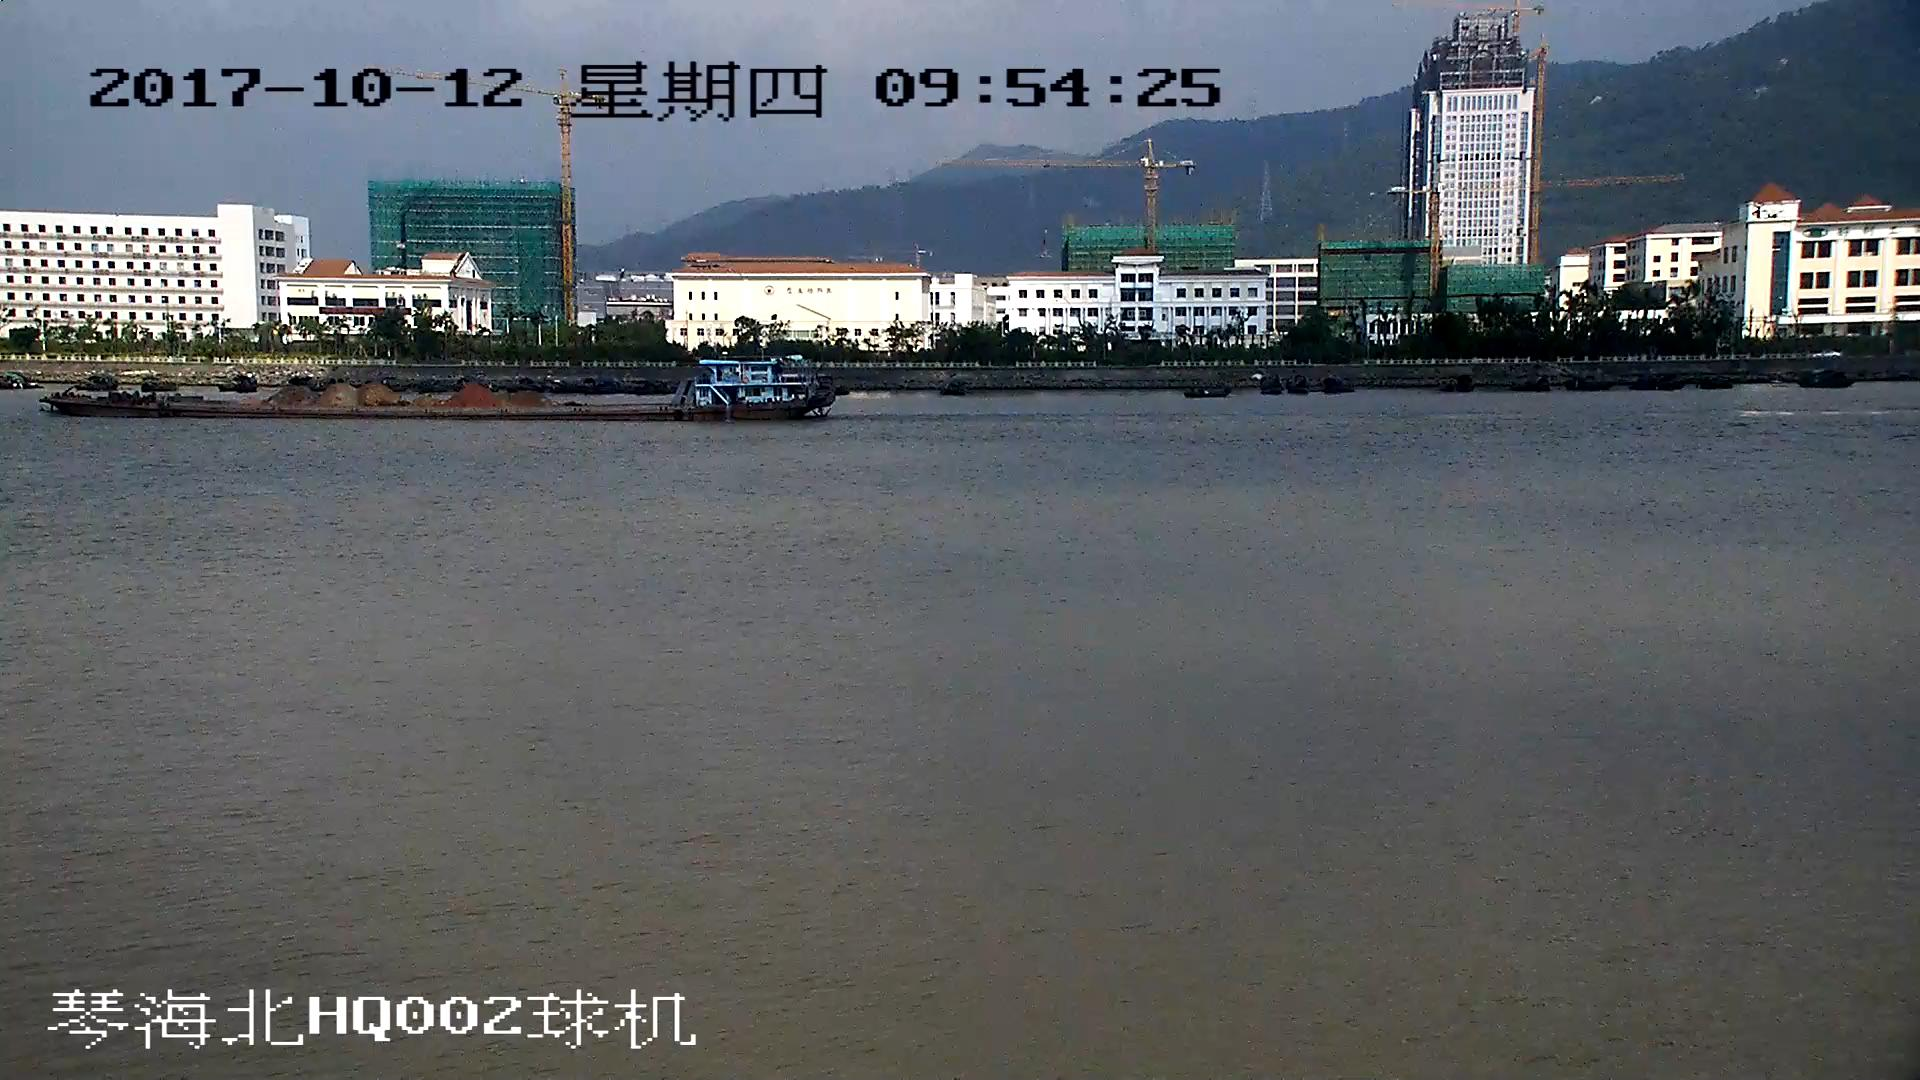ore carrier: (52, 354, 832, 422)
